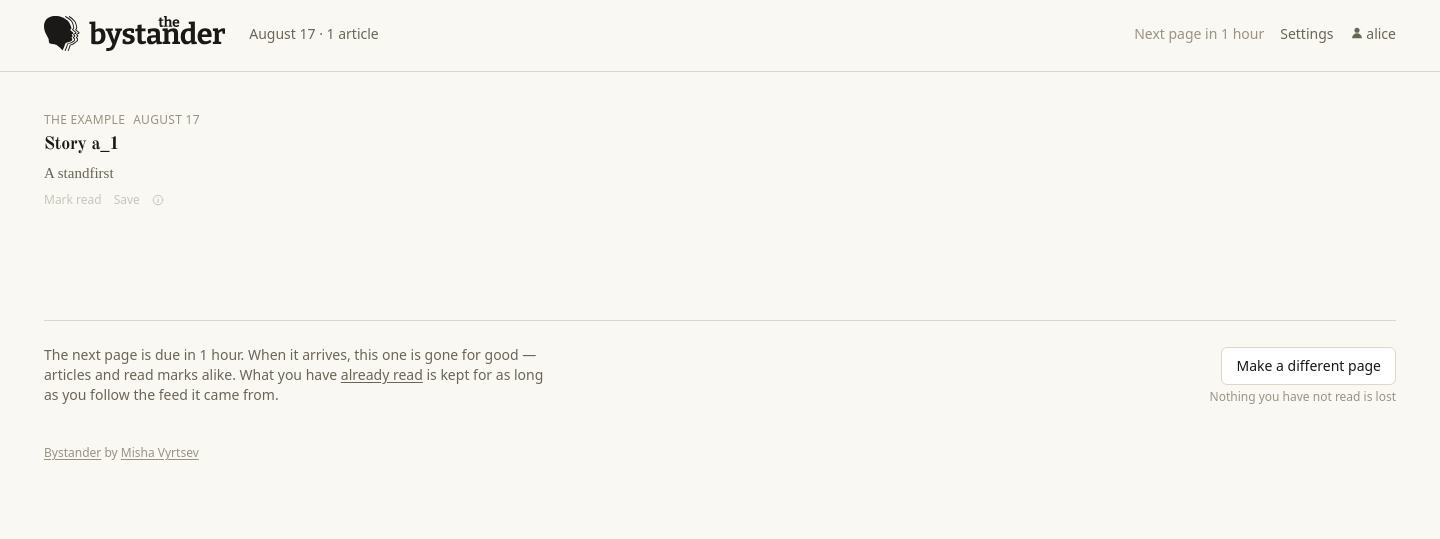
Test case: ReaderPage › keeps the page when composing is refused
Expected: the link "Story a_1" is shown, top-left (44, 135), bottom-right (120, 153)
Click the button "Make a different page" at (1309, 366), box top-left (1222, 347), bottom-right (1396, 385)
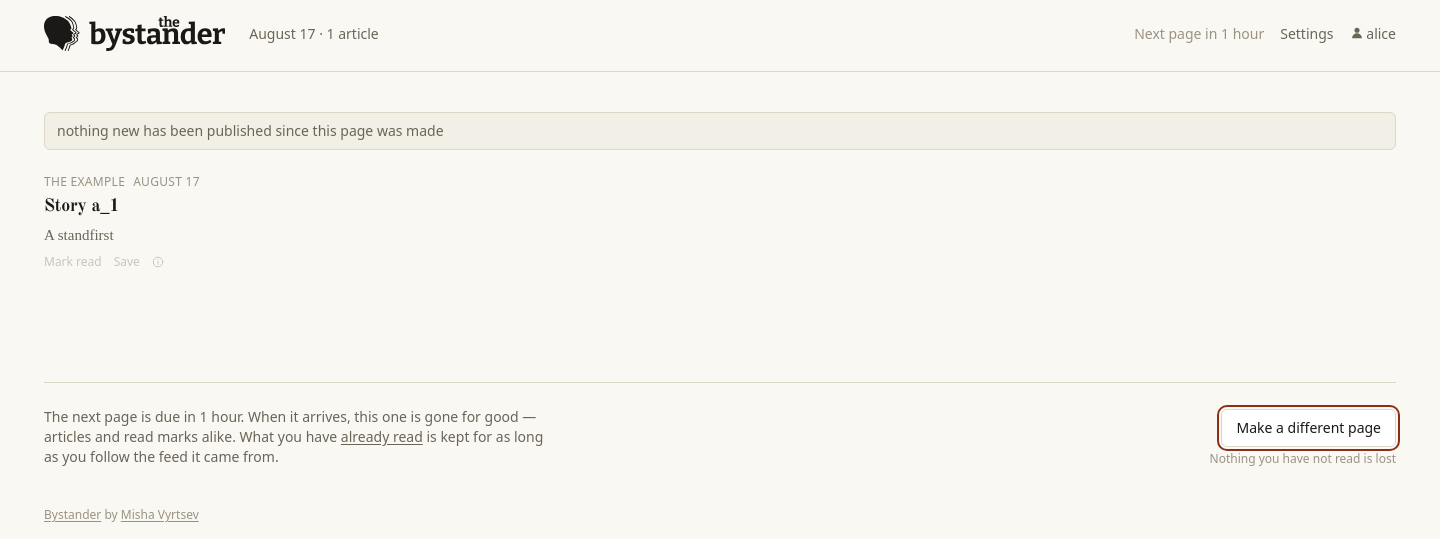
Expected: the link "Story a_1" is shown, top-left (44, 197), bottom-right (120, 215)
Expected: the text "nothing new has been published since this page was made" is shown, top-left (44, 112), bottom-right (1396, 150)
